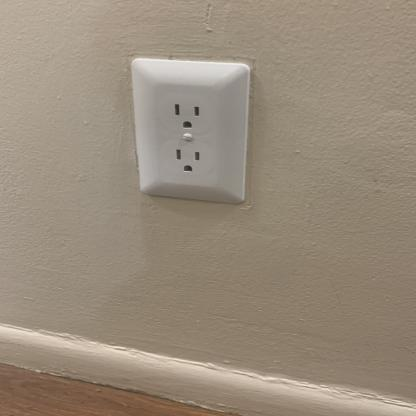OUTLET: (130, 57, 248, 206)
